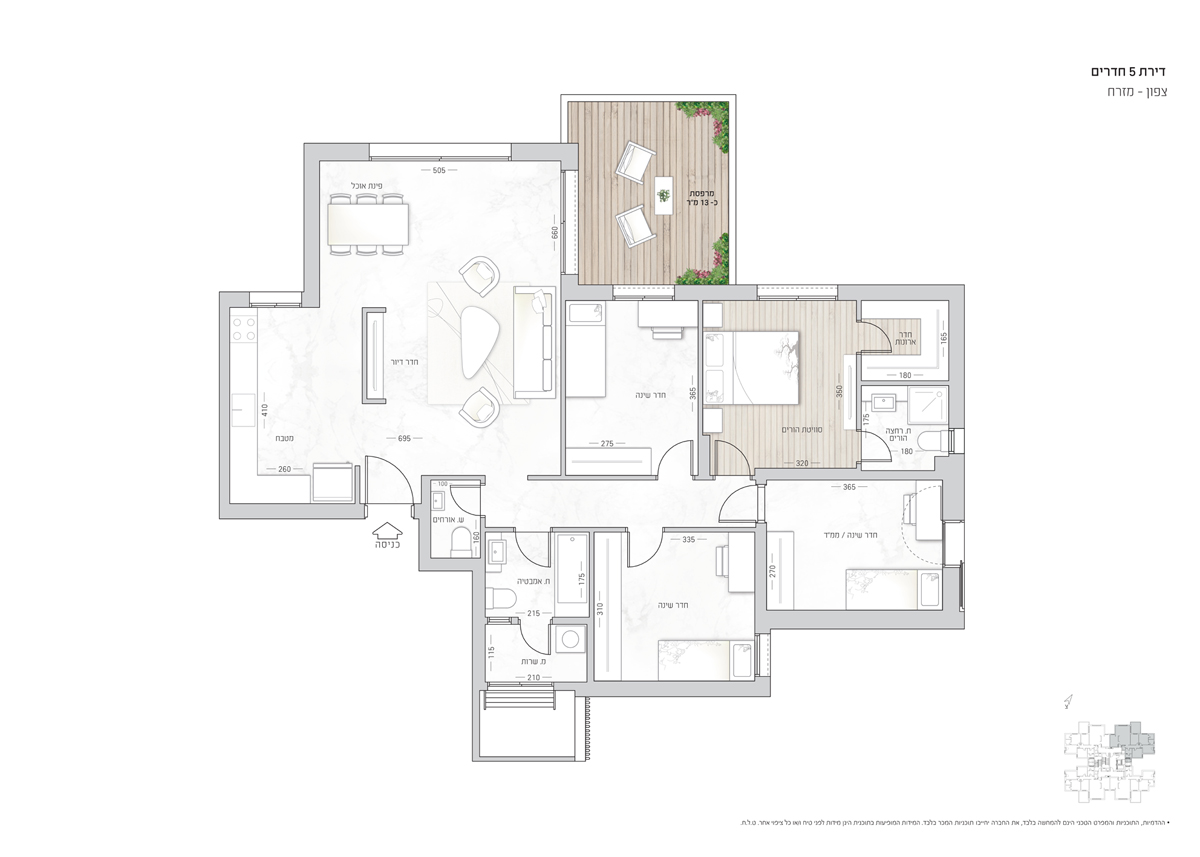door: (363, 453, 416, 501), (714, 481, 756, 525), (712, 432, 754, 476), (654, 431, 696, 475), (511, 532, 555, 569), (622, 534, 666, 571), (860, 427, 896, 465), (444, 481, 478, 518), (863, 317, 894, 355), (517, 625, 553, 657)
room: (755, 466, 965, 629), (698, 284, 863, 482), (589, 527, 766, 697), (560, 283, 703, 480)
wall: (755, 611, 966, 629), (586, 680, 771, 696), (755, 466, 967, 479), (304, 144, 320, 308), (220, 290, 230, 518), (219, 504, 366, 518), (472, 557, 486, 690), (754, 523, 767, 631), (943, 456, 964, 521), (943, 566, 963, 628), (420, 558, 486, 571), (422, 476, 431, 570)
window: (370, 144, 512, 162), (758, 283, 838, 300), (613, 284, 674, 300), (250, 292, 302, 307), (759, 631, 775, 676), (488, 681, 554, 690), (948, 427, 964, 454)
